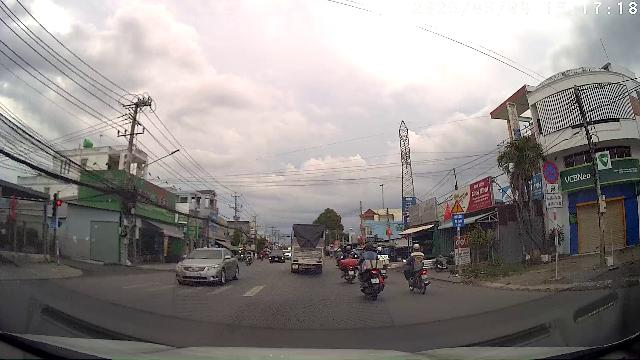130-cam-dung-va-do-xe: (542, 161, 559, 183)
